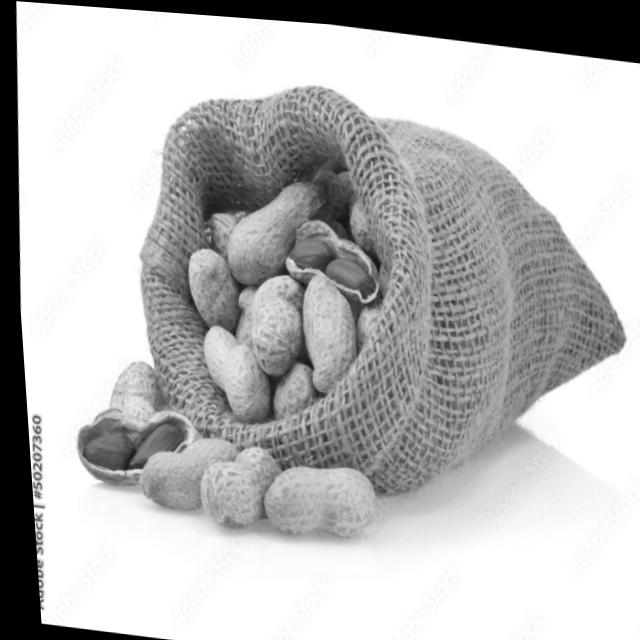sack: (115, 62, 640, 519)
